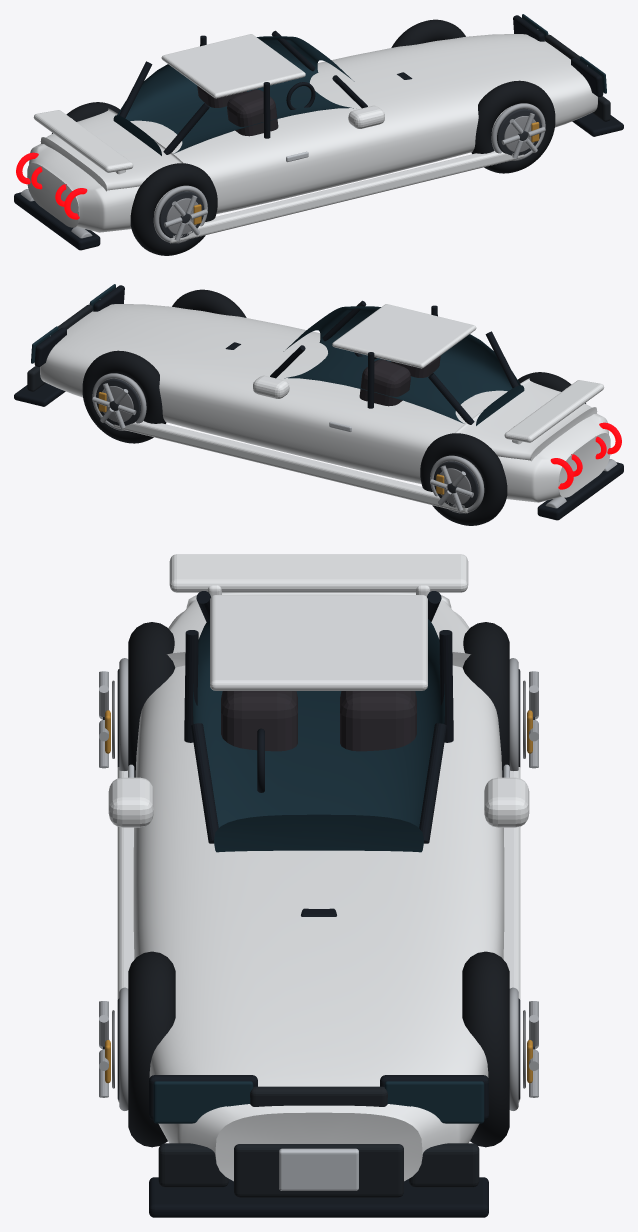
The model's file is r34_gtr_style.fbx.
3 renders of one model, top to bottom at view 1: azimuth 30°, elevation 25°; view 2: azimuth 150°, elevation 25°; view 3: azimuth 270°, elevation 25°, orthographic. The views are drawn at different scales.
Visible parts, largest first — view 1: R34 curved body, R34 greenhouse glass, Roof skin, Side skirt -1, Rear deck, Wheel 3 tire, Wheel 1 tire, Rear wing blade, Bucket seat -0.37, Rear diffuser, Wheel 2 tire, Front lip (+15 smaller); view 2: R34 curved body, R34 greenhouse glass, Roof skin, Side skirt 1, Rear deck, Wheel 4 tire, Wheel 2 tire, Rear wing blade, Bucket seat 0.37, Rear diffuser, Wheel 1 tire, Front lip (+15 smaller); view 3: R34 curved body, R34 greenhouse glass, Roof skin, Rear wing blade, Front lip, Wheel 2 tire, Wheel 1 tire, Center lower intake, Bucket seat 0.37, Bucket seat -0.37, Wheel 3 tire, Wheel 4 tire (+21 smaller).
Boxes of the visible parts, x1=… form: R34 curved body: x1=27, y1=34, x2=597, y2=232; R34 greenhouse glass: x1=113, y1=36, x2=354, y2=155; Roof skin: x1=161, y1=34, x2=305, y2=98; Side skirt -1: x1=169, y1=151, x2=524, y2=243; Rear deck: x1=40, y1=108, x2=182, y2=191; Wheel 3 tire: x1=130, y1=163, x2=217, y2=255; Wheel 1 tire: x1=471, y1=80, x2=555, y2=173; Rear wing blade: x1=33, y1=110, x2=133, y2=172; Bucket seat -0.37: x1=227, y1=89, x2=278, y2=136; Rear diffuser: x1=14, y1=192, x2=100, y2=250; Wheel 2 tire: x1=391, y1=19, x2=465, y2=47; Front lip: x1=572, y1=113, x2=623, y2=136; R34 curved body: x1=40, y1=304, x2=610, y2=502; R34 greenhouse glass: x1=283, y1=306, x2=524, y2=425; Roof skin: x1=332, y1=304, x2=476, y2=368; Side skirt 1: x1=113, y1=421, x2=468, y2=513; Rear deck: x1=455, y1=378, x2=597, y2=461; Wheel 4 tire: x1=420, y1=433, x2=507, y2=525; Wheel 2 tire: x1=82, y1=350, x2=166, y2=443; Rear wing blade: x1=504, y1=380, x2=604, y2=442; Bucket seat 0.37: x1=359, y1=359, x2=410, y2=406; Rear diffuser: x1=537, y1=462, x2=623, y2=520; Wheel 1 tire: x1=172, y1=289, x2=246, y2=317; Front lip: x1=14, y1=383, x2=65, y2=406; R34 curved body: x1=133, y1=612, x2=504, y2=1181; R34 greenhouse glass: x1=193, y1=619, x2=444, y2=852; Roof skin: x1=210, y1=595, x2=427, y2=690; Rear wing blade: x1=169, y1=554, x2=468, y2=592; Front lip: x1=149, y1=1177, x2=488, y2=1217; Wheel 2 tire: x1=462, y1=951, x2=509, y2=1147; Wheel 1 tire: x1=128, y1=951, x2=175, y2=1147; Center lower intake: x1=234, y1=1144, x2=403, y2=1197; Bucket seat 0.37: x1=340, y1=691, x2=416, y2=751; Bucket seat -0.37: x1=221, y1=691, x2=297, y2=751; Wheel 3 tire: x1=128, y1=622, x2=175, y2=777; Wheel 4 tire: x1=462, y1=622, x2=509, y2=777.
Bounding box in the file's own units: 780 × 191 × 274.
